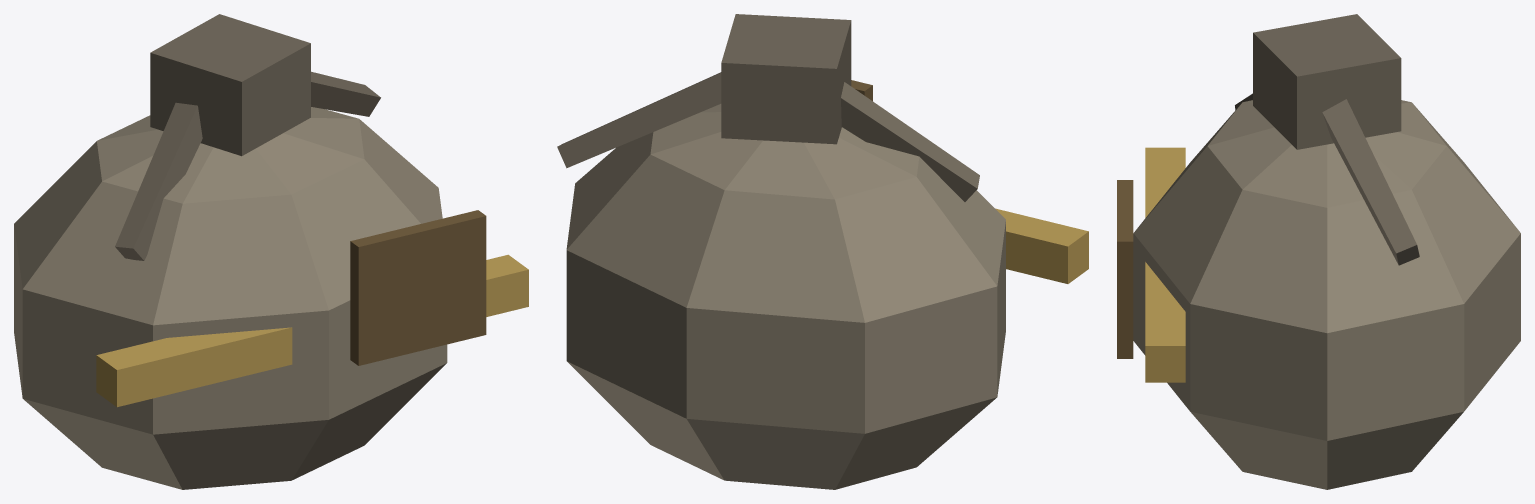
The model's file is prop_camp_bundle.glb.
3 views of the same model, side by side, from view 1: azimuth 30°, elevation 25°; view 2: azimuth 150°, elevation 25°; view 3: azimuth 270°, elevation 25° (orthographic). The views are drawn at different scales.
Parts seen in each view (by area): view 1: prop_camp_bundle; view 2: prop_camp_bundle; view 3: prop_camp_bundle.
Boxes of the visible parts, x1,y1,x2,y2 form: prop_camp_bundle: (14,14,528,489); prop_camp_bundle: (557,14,1088,489); prop_camp_bundle: (1117,14,1520,489).
Size of the model in its own units: 0.5859 by 0.568 by 0.4997.
